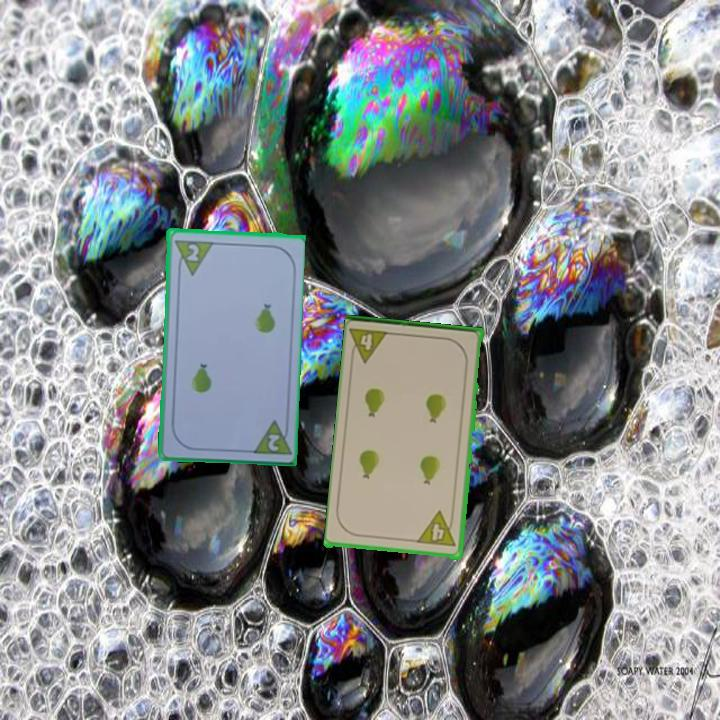2p: (170, 236, 214, 277), (264, 430, 282, 454)
4p: (347, 324, 393, 366), (414, 509, 459, 550)
